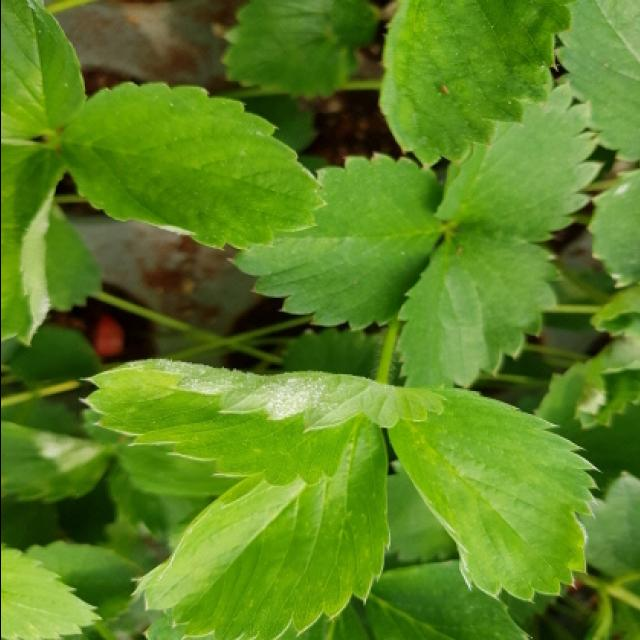Powdery Mildew Leaf: (74, 356, 443, 488), (385, 385, 600, 604), (56, 80, 326, 251), (2, 142, 66, 348), (2, 420, 110, 503), (587, 166, 640, 291)
